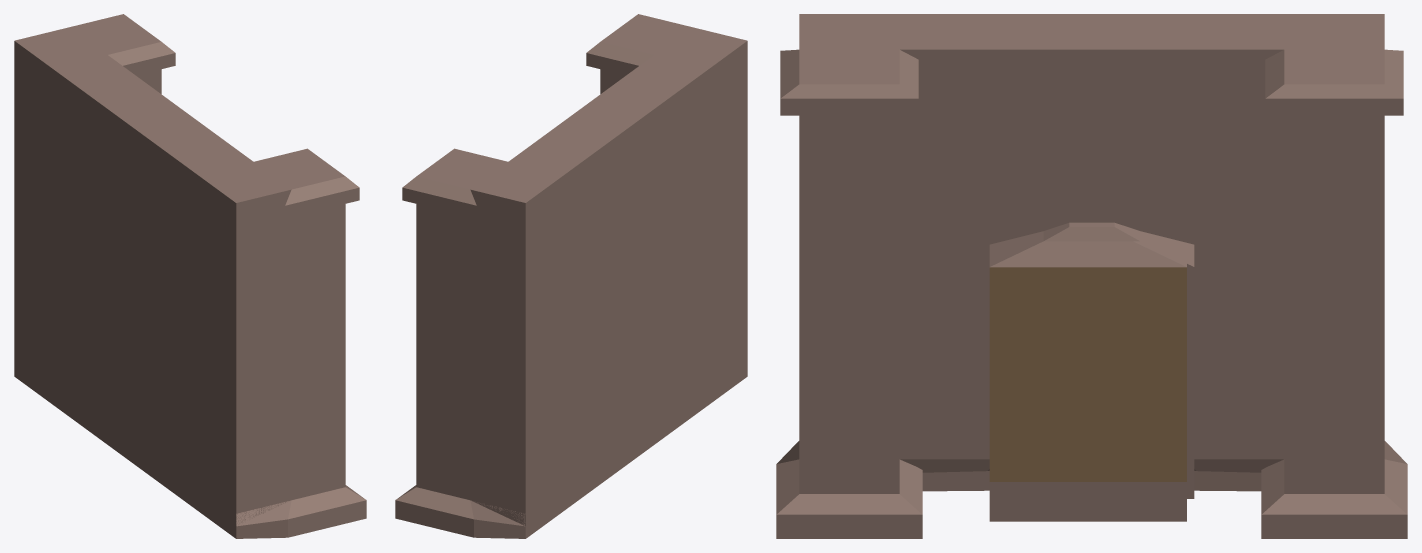
Rendered from door.fbx.
The picture shows the model from 3 angles, left to right: view 1: azimuth 30°, elevation 25°; view 2: azimuth 150°, elevation 25°; view 3: azimuth 270°, elevation 25°; orthographic projection. The views are drawn at different scales.
Visible parts, largest first — view 1: Cube; view 2: Cube; view 3: Cube.
Boxes of the visible parts, x1,y1,x2,y2 form: Cube: (14, 14, 366, 538); Cube: (395, 14, 747, 538); Cube: (776, 14, 1407, 538).
Size of the model in its own units: 439 by 1175 by 1496.
